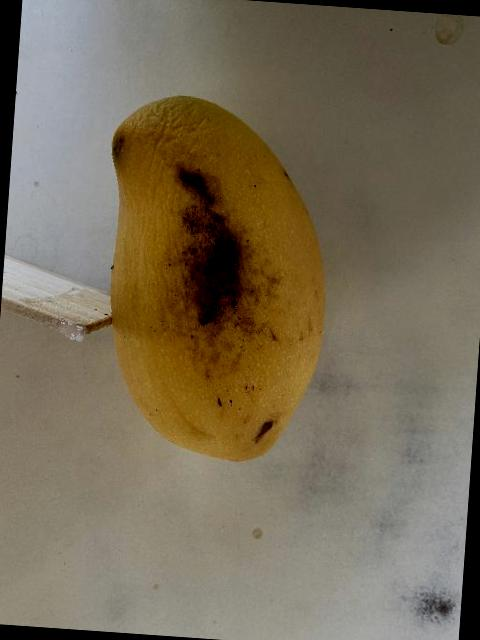Mango Overripe: (60, 87, 346, 469)
